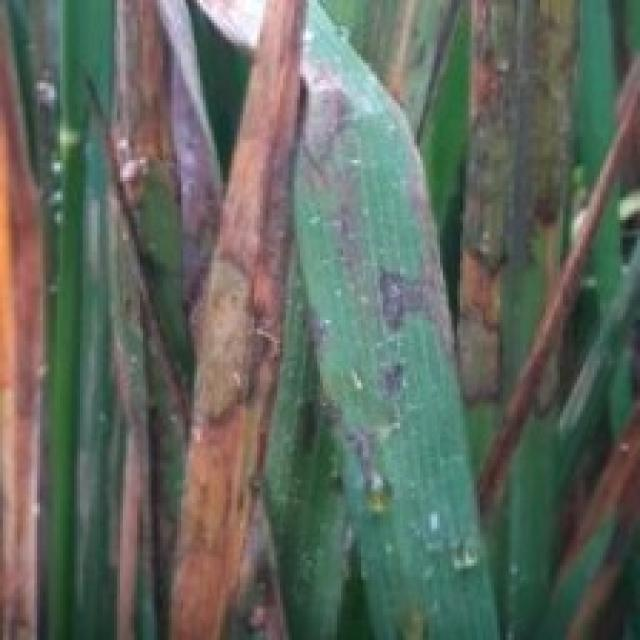Bacterial_Blight: (181, 246, 273, 434), (580, 395, 636, 601), (277, 66, 361, 185), (444, 308, 510, 400), (373, 267, 451, 341)
